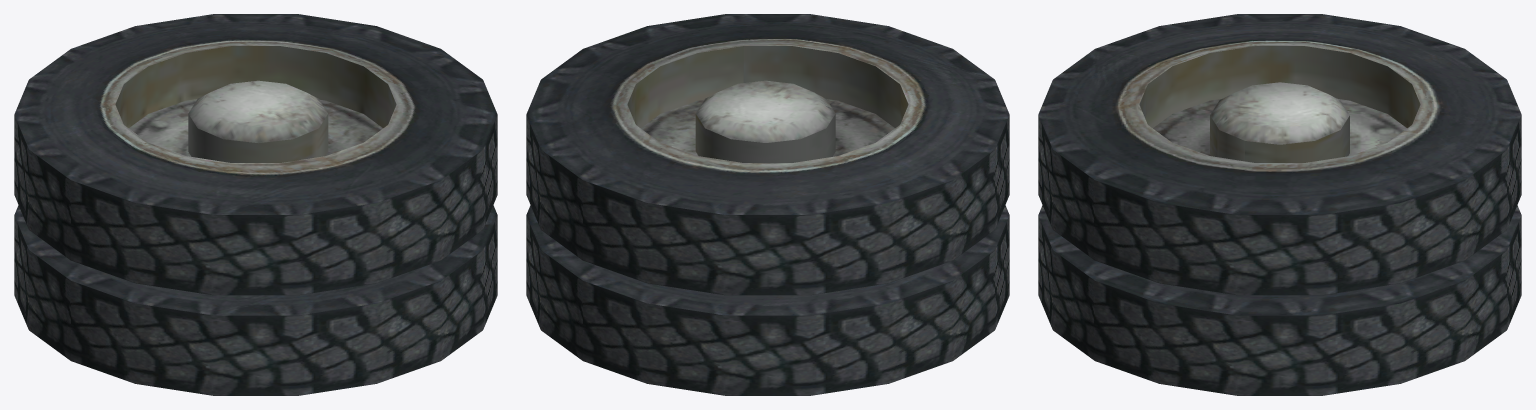
File: Vehicle_Tire03a.FBX
3 renders of one model, left to right at view 1: azimuth 30°, elevation 25°; view 2: azimuth 150°, elevation 25°; view 3: azimuth 270°, elevation 25°, orthographic.
Parts seen in each view (by area): view 1: Vehicle_Tire03a; view 2: Vehicle_Tire03a; view 3: Vehicle_Tire03a.
Boxes of the visible parts, left/top/right/bottom form: Vehicle_Tire03a: left=14, top=14, right=497, bottom=395; Vehicle_Tire03a: left=526, top=14, right=1009, bottom=395; Vehicle_Tire03a: left=1038, top=14, right=1521, bottom=395.
Size of the model in its own units: 50.19 by 23.38 by 50.96.
